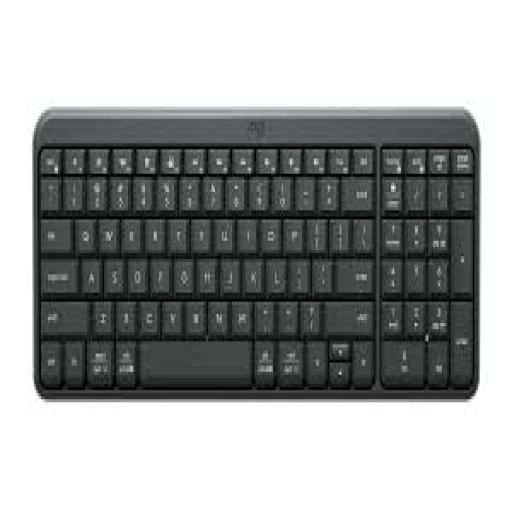KEYBOARD-2: (31, 110, 480, 396)
